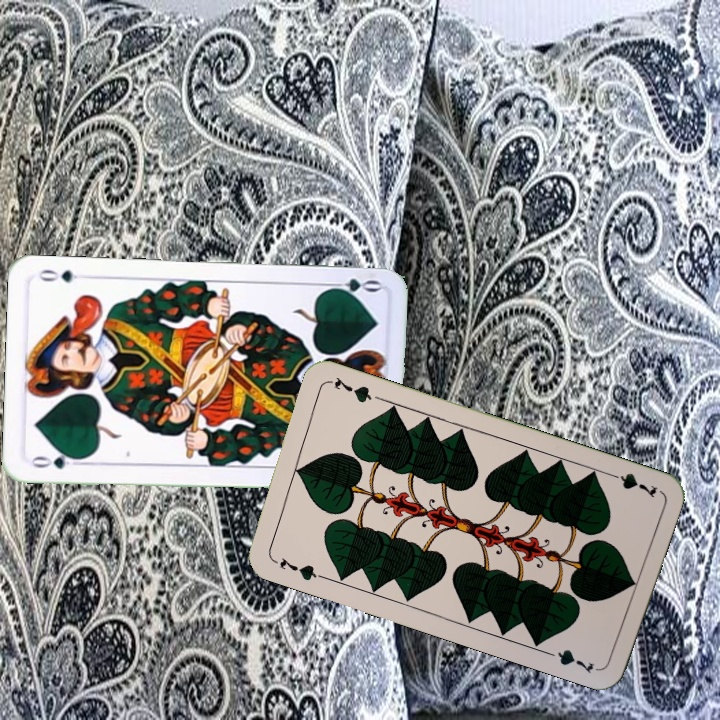G7: (603, 468, 660, 501), (275, 553, 326, 584)
GO: (322, 274, 382, 300), (27, 449, 86, 472)
